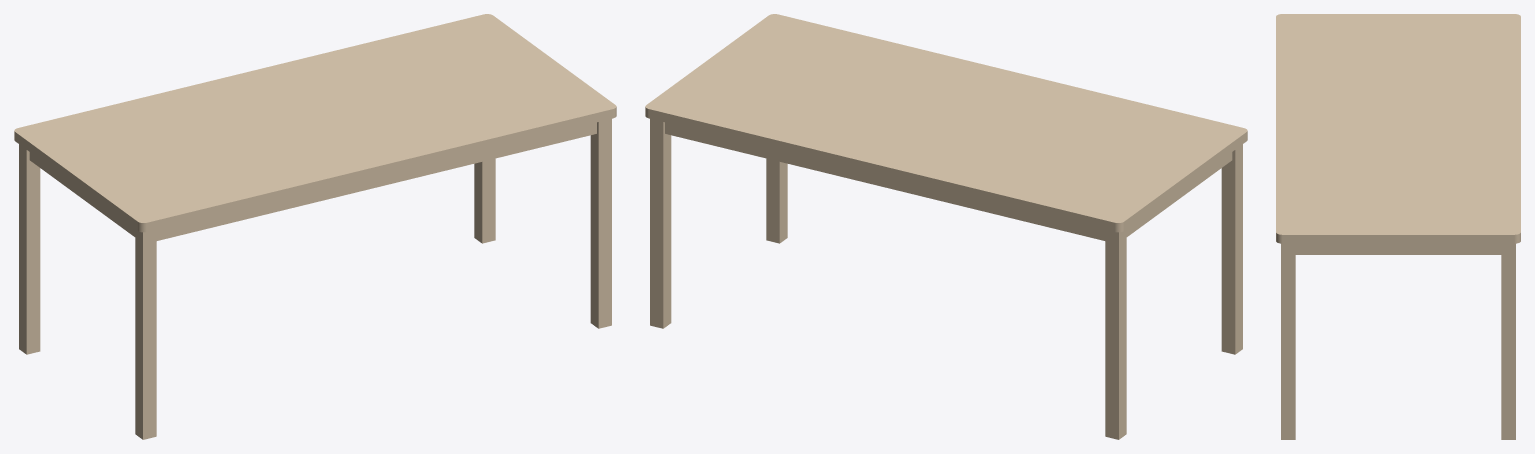
Rendered from 592_ダイニングテーブル6人掛け.glb.
The picture shows the model from 3 angles, left to right: view 1: azimuth 30°, elevation 25°; view 2: azimuth 150°, elevation 25°; view 3: azimuth 270°, elevation 25°; orthographic projection. The views are drawn at different scales.
Parts seen in each view (by area): view 1: Body; view 2: Body; view 3: Body.
Boxes of the visible parts, box(x1,y1,x2,y2) form: Body: box(14, 14, 616, 439); Body: box(645, 14, 1247, 439); Body: box(1276, 14, 1520, 439).
Size of the model in its own units: 1.6 by 0.7 by 0.75.
